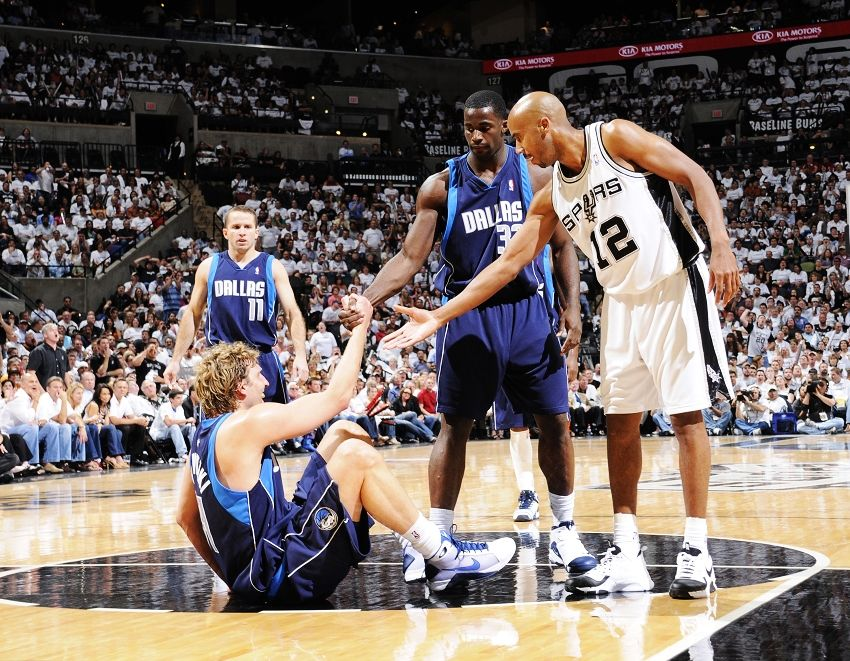10+: (1, 1, 847, 603)
down: (170, 299, 531, 599)
